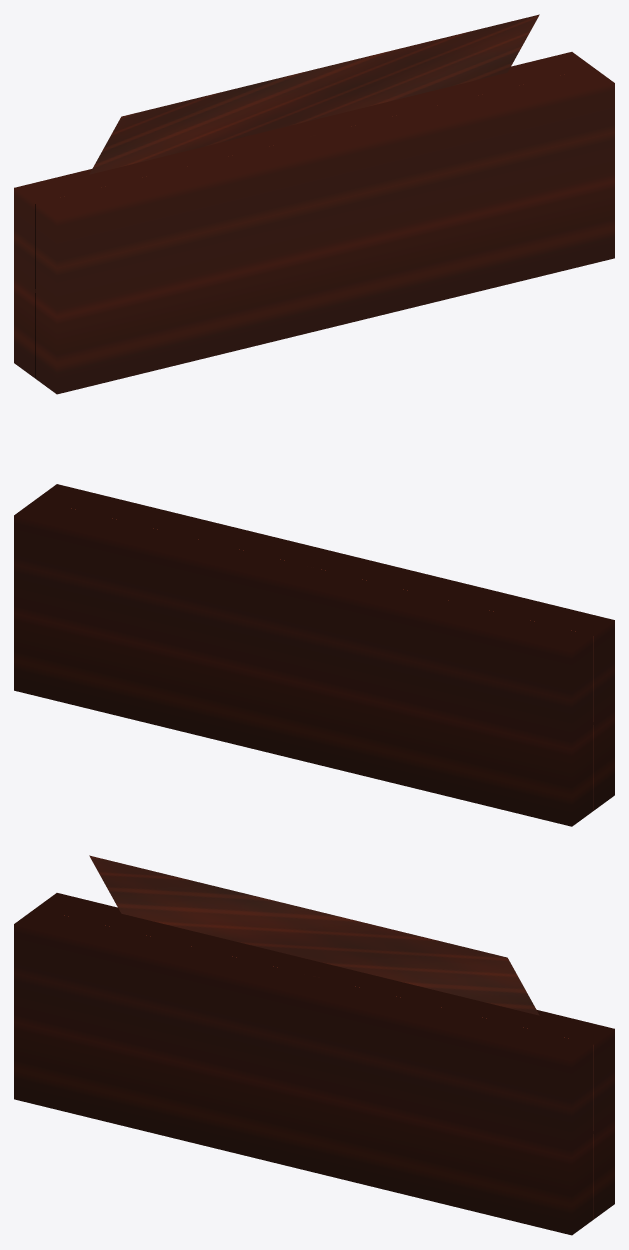
File: trap_t1_tripwire_alarm.glb
The picture shows the model from 3 angles, top to bottom: view 1: azimuth 30°, elevation 25°; view 2: azimuth 150°, elevation 25°; view 3: azimuth 330°, elevation 25°; orthographic projection.
Visible parts, largest first — view 1: trap_t1_tripwire_alarm; view 2: trap_t1_tripwire_alarm; view 3: trap_t1_tripwire_alarm.
Boxes of the visible parts, x1,y1,x2,y2 form: trap_t1_tripwire_alarm: (14, 14, 614, 394); trap_t1_tripwire_alarm: (14, 484, 614, 826); trap_t1_tripwire_alarm: (14, 855, 614, 1235).
Bounding box in the file's own units: 0.6 × 0.264 × 0.08.
1 material, 1 textured.
